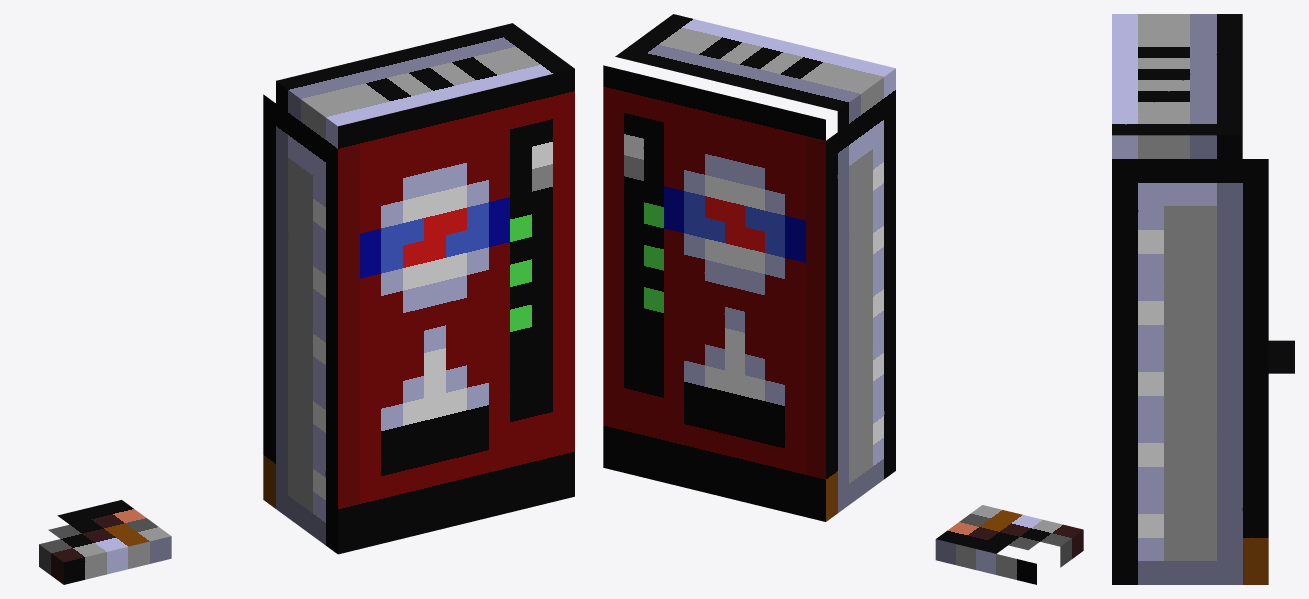
File: hitek_tile_041.gltf
3 views of the same model, side by side, from view 1: azimuth 30°, elevation 25°; view 2: azimuth 150°, elevation 25°; view 3: azimuth 270°, elevation 25° (orthographic). The views are drawn at different scales.
Visible parts, largest first — view 1: hitek_tile_041; view 2: hitek_tile_041; view 3: hitek_tile_041.
Part boxes in pixels (x1,y1,x2,y2): hitek_tile_041: (39, 23, 574, 584); hitek_tile_041: (603, 14, 1083, 584); hitek_tile_041: (1112, 14, 1294, 584).
Size of the model in its own units: 14.67 by 12.67 by 4.67.
Materials: 1 (1 with a texture image).
